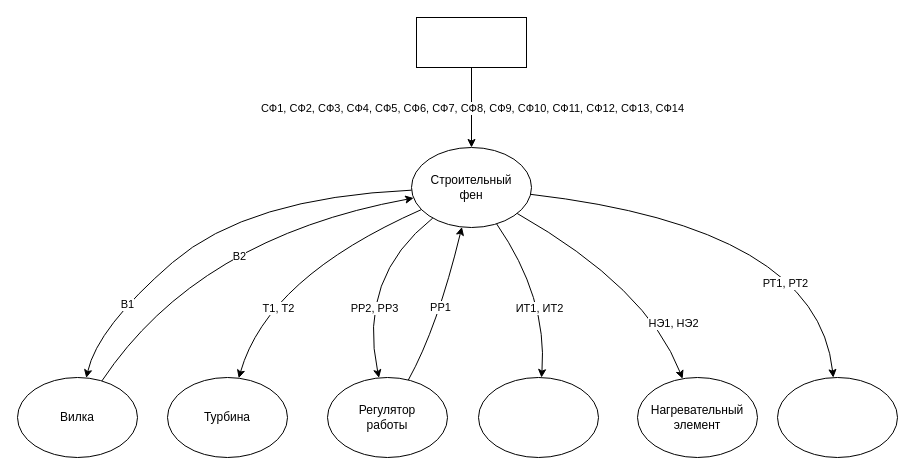
Some shapes in this 915 by 475 pixel diagram are drawn without their labels. Each missing label, with the box of its shape:
Индикатор температуры: (478, 376, 598, 458)
Пользователь: (416, 16, 526, 68)
Регулятор температуры: (776, 376, 898, 458)
